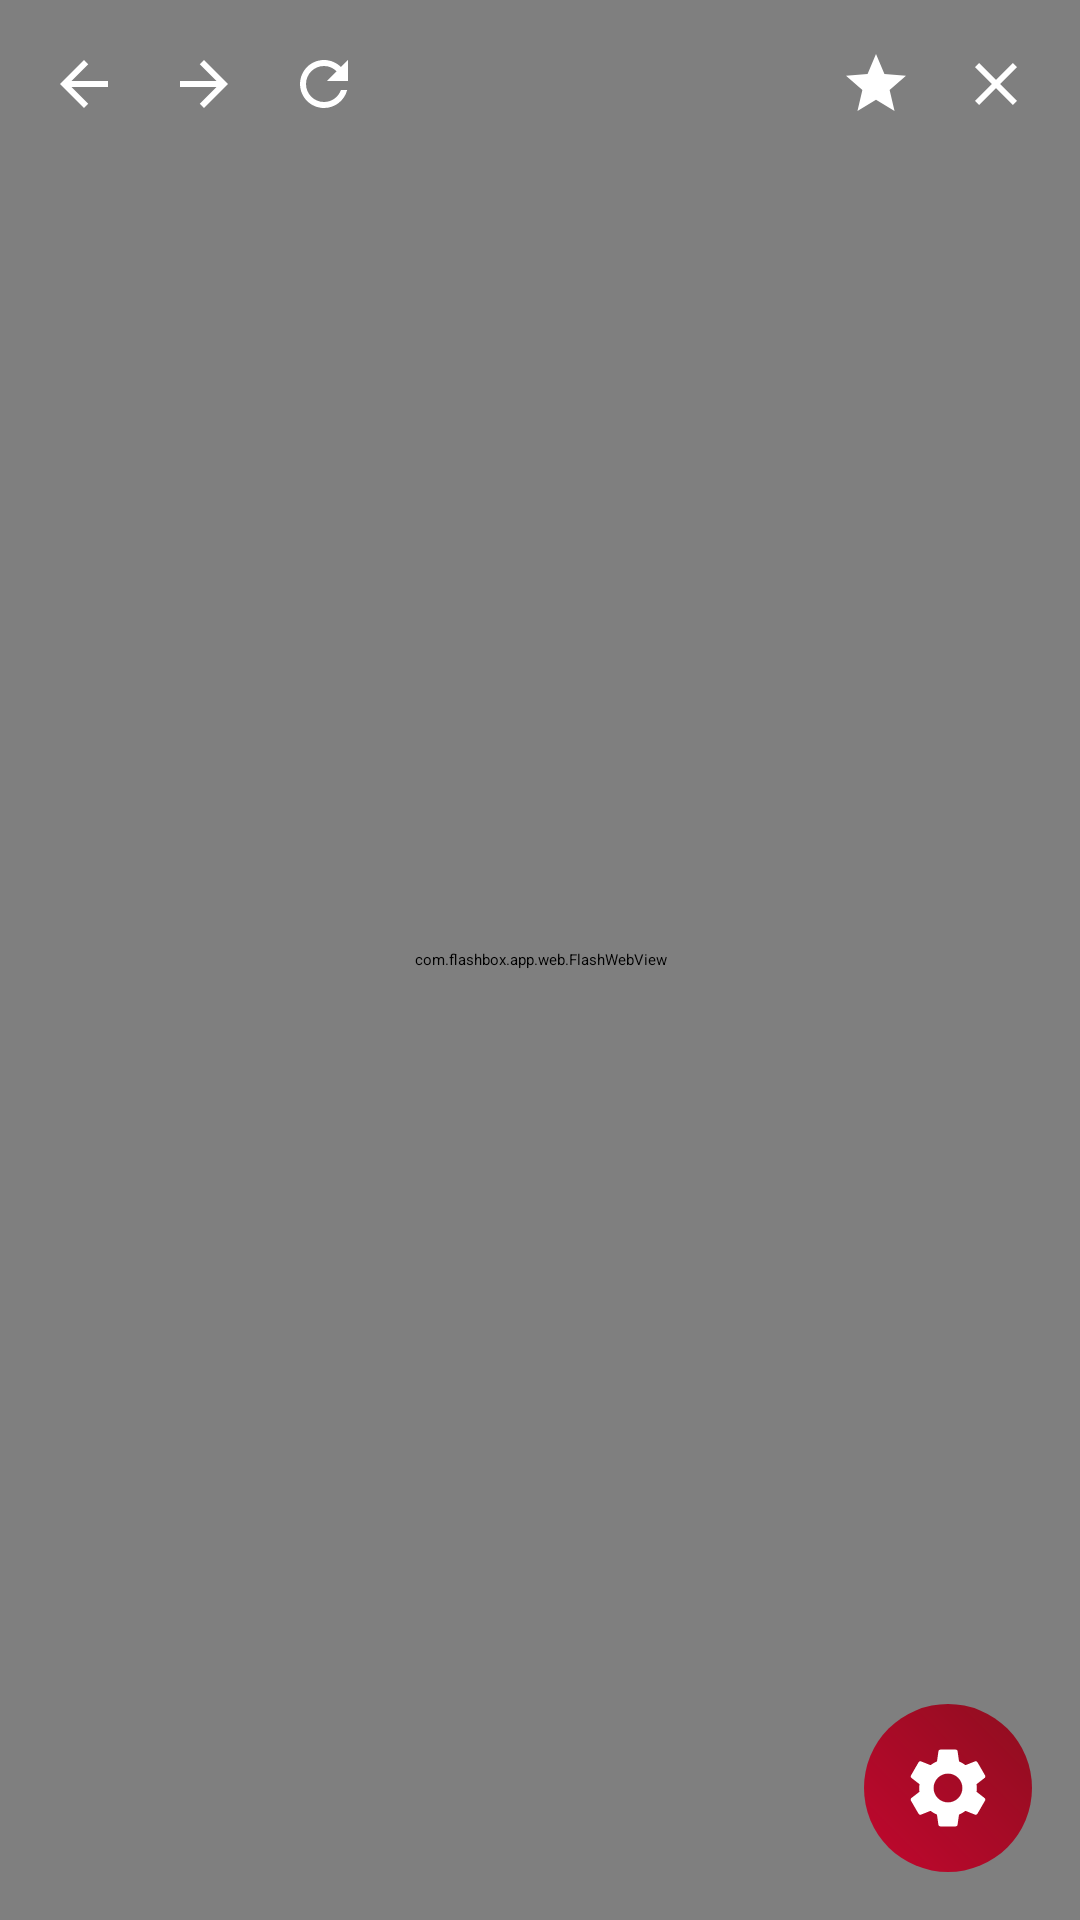

Locate icon controls on the screen. Image size 1080px x 1920px, boxes as [x1,y1,x2,y2].
back: [60,60,108,108]
close: [975,63,1017,105]
fav: [846,54,906,111]
forward: [180,60,228,108]
refresh: [300,60,348,108]
settings: [864,1704,1032,1872]
